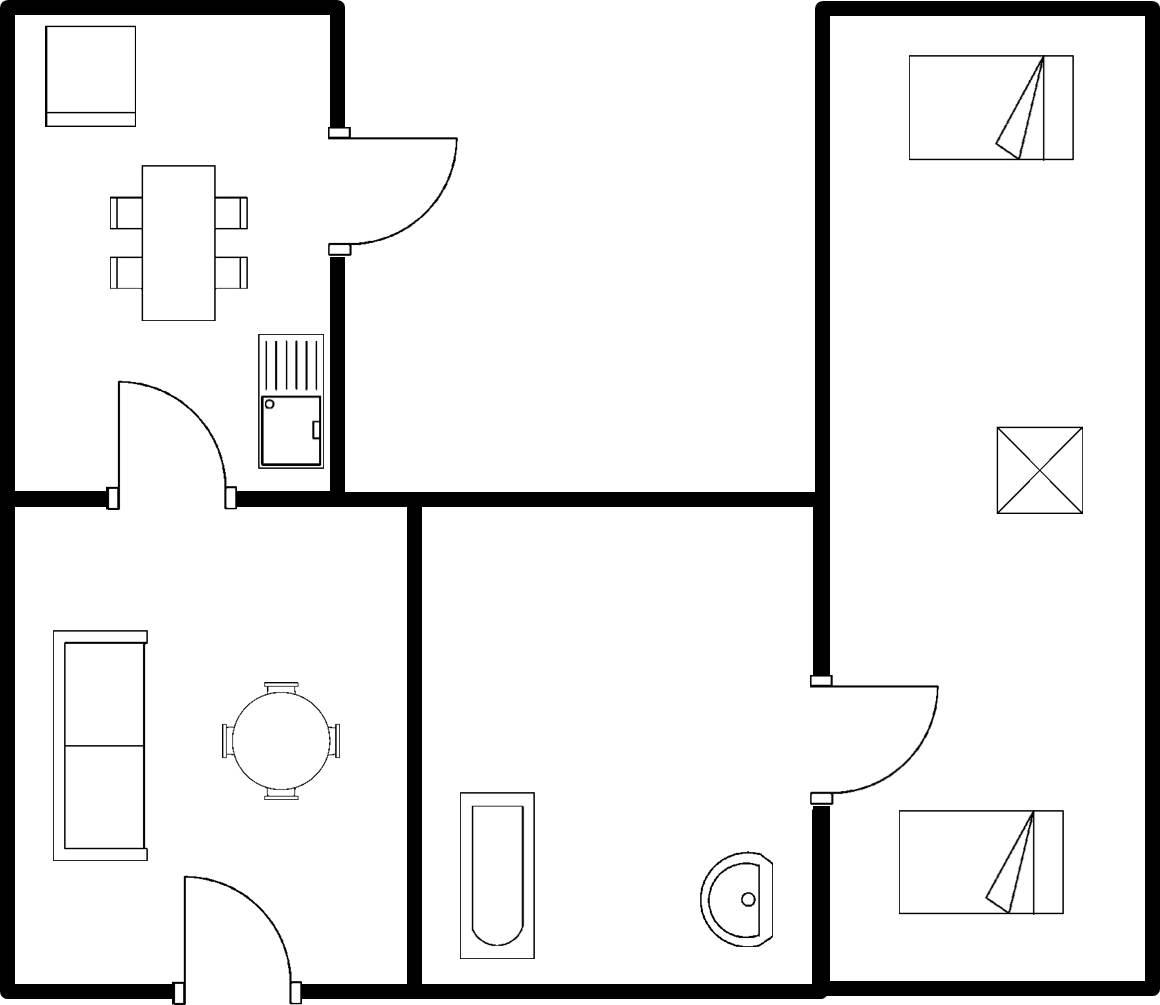bed: (899, 47, 1080, 170), (891, 800, 1070, 922)
dining_table: (99, 159, 253, 325)
round_table: (215, 673, 345, 805)
sink: (250, 326, 326, 473)
sofa: (44, 621, 159, 868)
tub: (452, 785, 541, 965)
